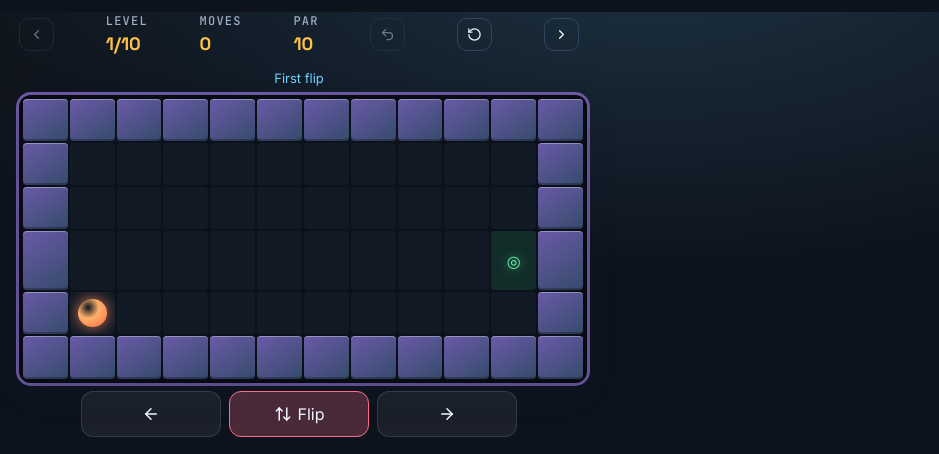
Test: Gravity Flip component › moves with the keyboard and the on-screen buttons, and counts moves
The image size is (939, 454).
Press ArrowRight
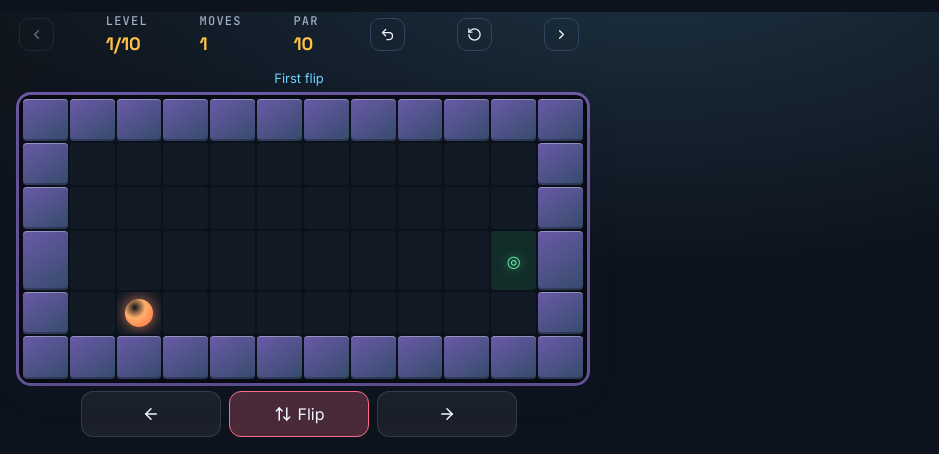
Click the button with aria-label "Flip gravity" at coordinates (299, 414), box [229,390,369,436]
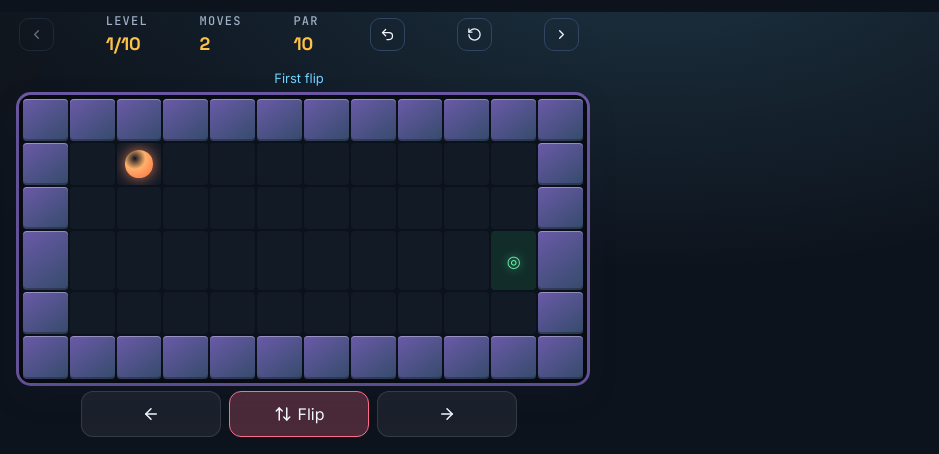
Click the button named "Move left" at coordinates (151, 414), box [81,390,221,436]
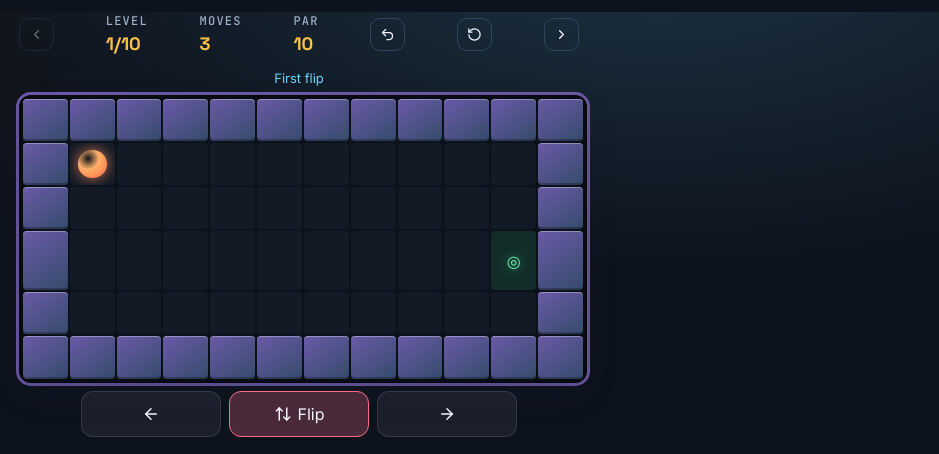
Expected: the text named "Moves" reads "3", [200,32,211,55]
Click the button named "Undo" at coordinates (388, 34), box [370,18,405,51]
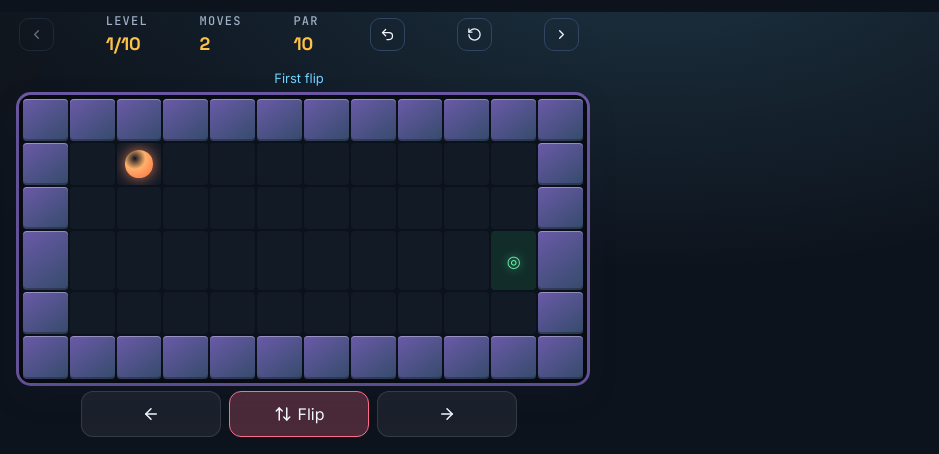
Expected: the text named "Moves" reads "2", [200,32,210,55]
